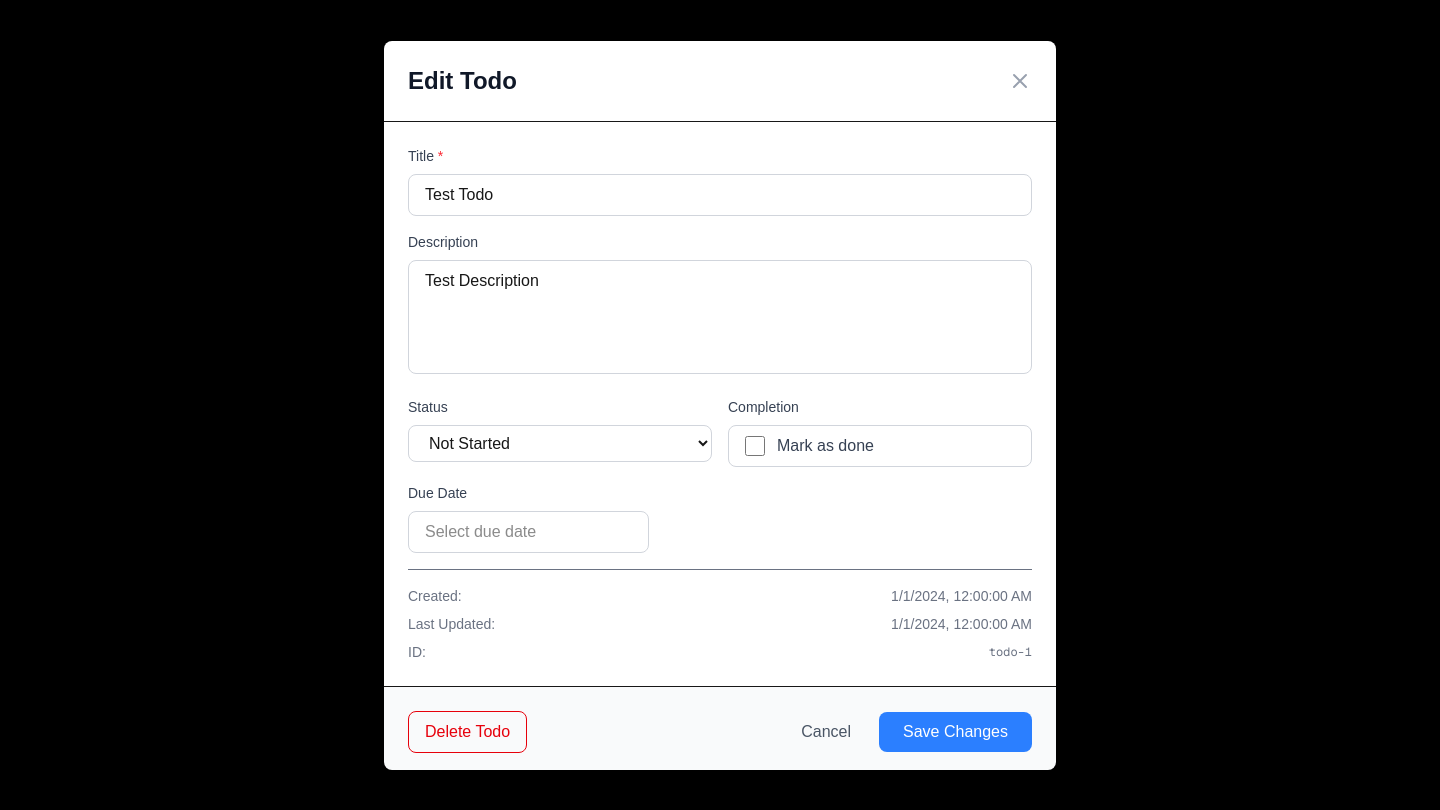
Test case: TodoModal › Done checkbox and status synchronization › should check done checkbox when status changes to completed
Select "Completed" in the dropdown: {"x": 560, "y": 443} [408, 424, 712, 462]
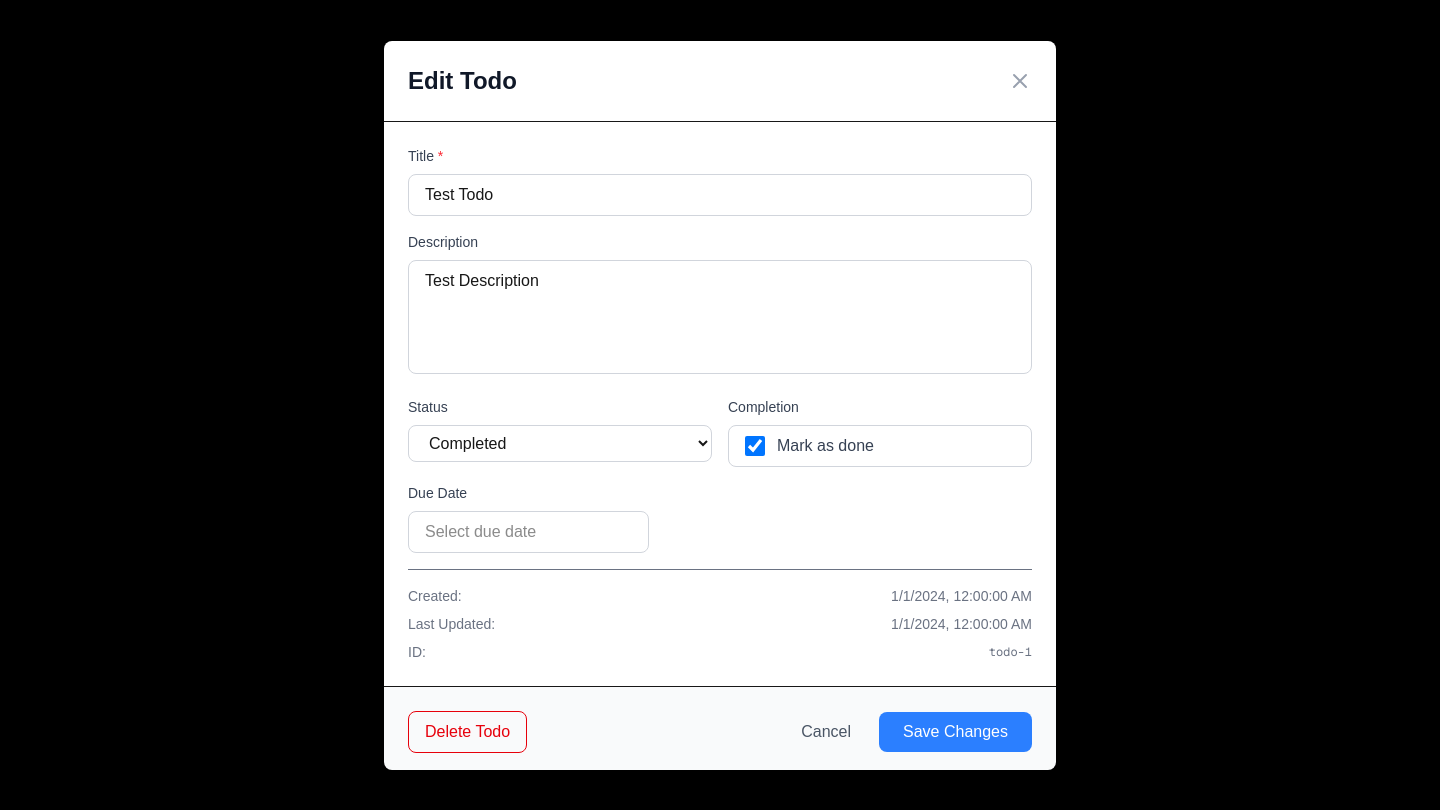
Expected: the checkbox labelled "Mark as done" is checked, [745, 436, 765, 456]
